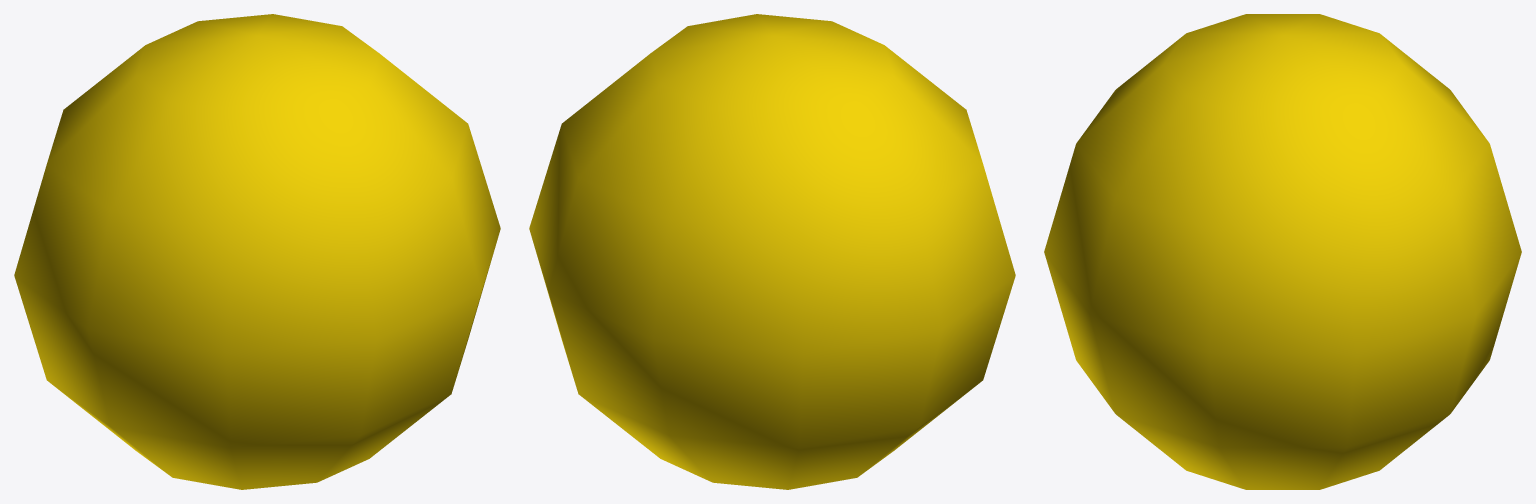
The model's file is SM_Props_Pool_08.fbx.
3 renders of one model, left to right at view 1: azimuth 30°, elevation 25°; view 2: azimuth 150°, elevation 25°; view 3: azimuth 270°, elevation 25°, orthographic.
Parts seen in each view (by area): view 1: SM_Props_Pool_08; view 2: SM_Props_Pool_08; view 3: SM_Props_Pool_08.
Part boxes in pixels (x1,y1,x2,y2): SM_Props_Pool_08: [14, 14, 500, 489]; SM_Props_Pool_08: [529, 14, 1015, 489]; SM_Props_Pool_08: [1044, 14, 1521, 489].
Size of the model in its own units: 0.08 by 0.08 by 0.08.
